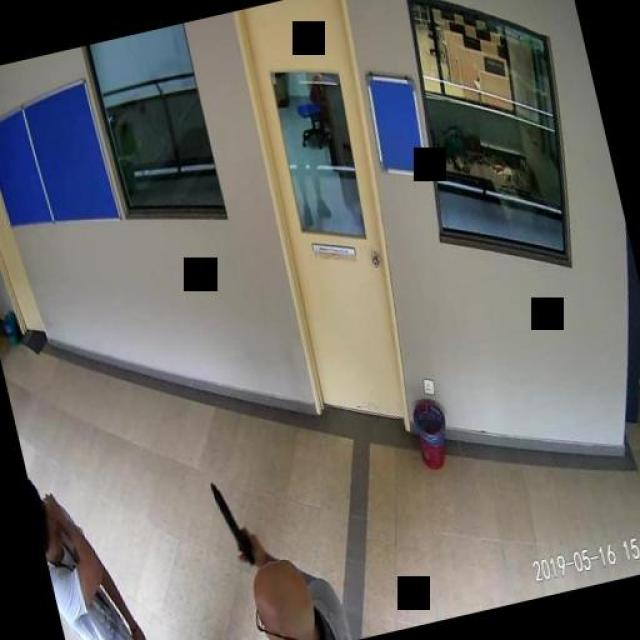gun: (209, 478, 255, 568)
